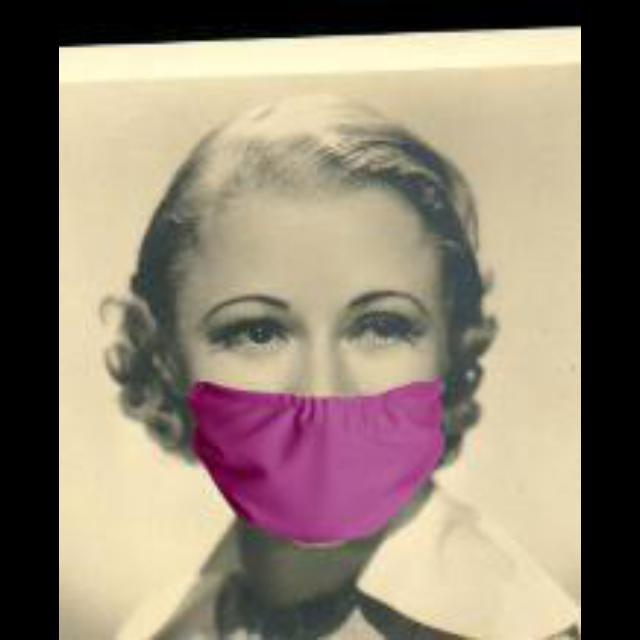suspicion: (128, 70, 512, 558)
